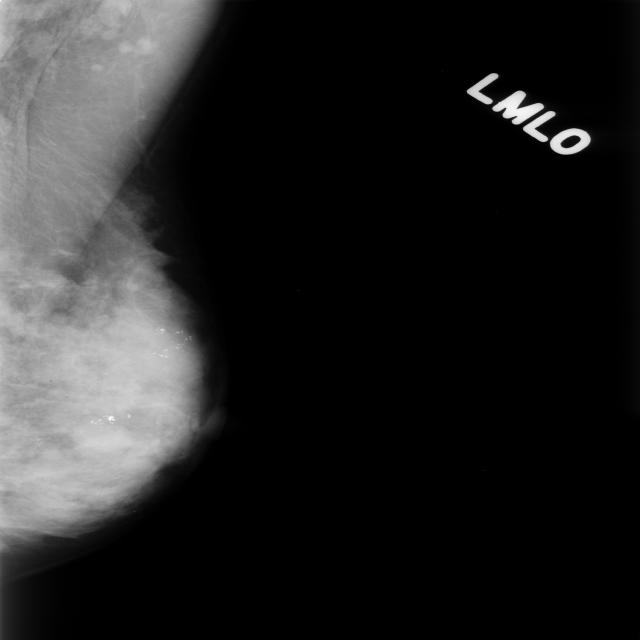normal: (0, 0, 236, 578)
